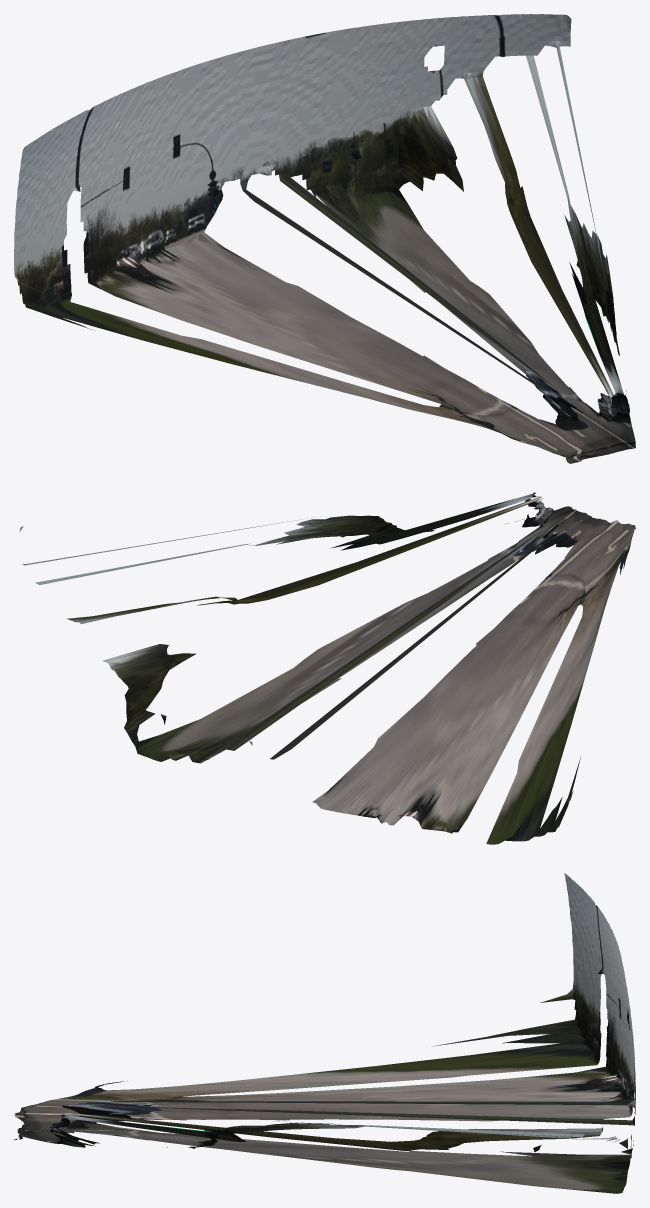
The picture shows the model from 3 angles, top to bottom: view 1: azimuth 30°, elevation 25°; view 2: azimuth 150°, elevation 25°; view 3: azimuth 270°, elevation 25°; orthographic projection. The views are drawn at different scales.
Visible parts, largest first — view 1: defaultobject; view 2: defaultobject; view 3: defaultobject.
Part boxes in pixels (x1,y1,x2,y2): defaultobject: [14, 14, 635, 463]; defaultobject: [19, 492, 635, 844]; defaultobject: [14, 873, 635, 1193].
Bounding box in the file's own units: 40.97 × 13.75 × 44.56.
1 material, 1 textured.
